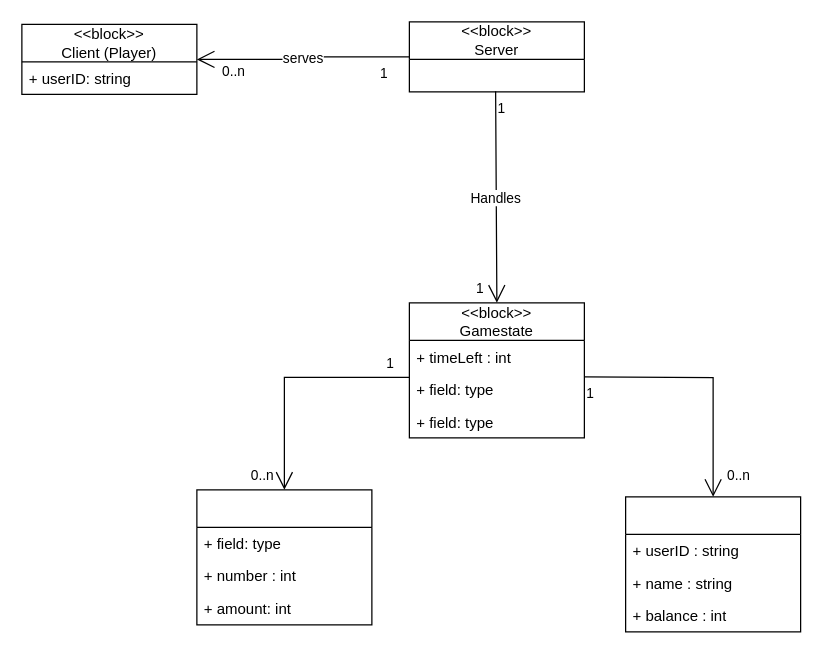
The diagram is 823 pixels wide and 658 high, and some of its shapes have lost their labels. The box of each missing label's shape, as (x1, y1, x2, y2) in pixels:
<<block>> Bet: (196, 488, 372, 625)
<<block>> Users: (624, 496, 801, 632)
